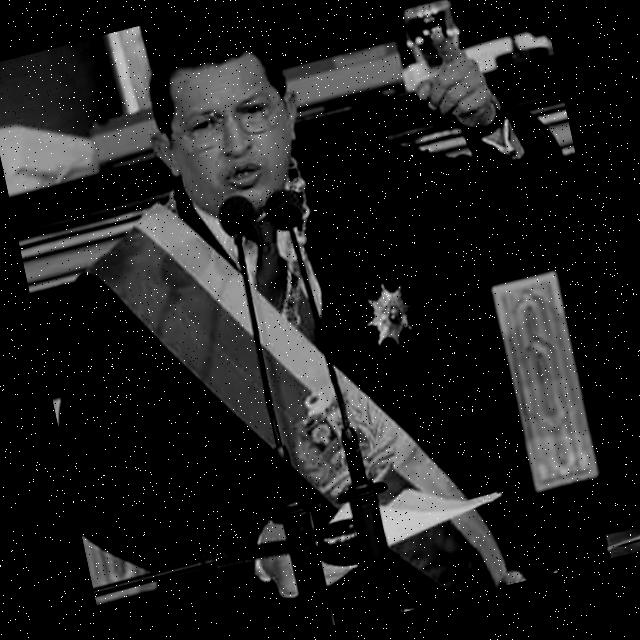face: (150, 33, 319, 249)
